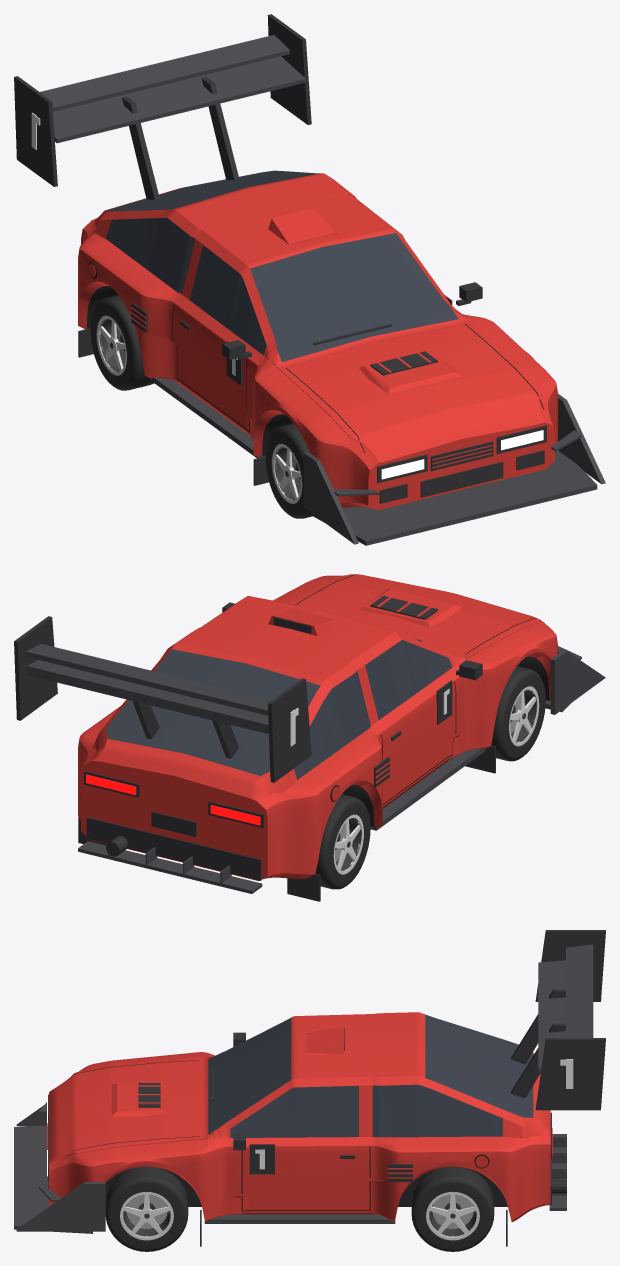
File: hill-climb-special.glb
3 renders of one model, top to bottom at view 1: azimuth 30°, elevation 25°; view 2: azimuth 150°, elevation 25°; view 3: azimuth 270°, elevation 25°, orthographic. The views are drawn at different scales.
Parts seen in each view (by area): view 1: Body, Wheel_RR, Wheel_FR; view 2: Body, Wheel_RR, Wheel_FR; view 3: Body, Wheel_FL, Wheel_RL.
Boxes of the visible parts, left/top/right/bottom form: Body: left=14, top=14, right=605, bottom=545; Wheel_RR: left=90, top=295, right=153, bottom=390; Wheel_FR: left=265, top=423, right=312, bottom=518; Body: left=14, top=574, right=605, bottom=901; Wheel_RR: left=315, top=794, right=370, bottom=889; Wheel_FR: left=491, top=666, right=545, bottom=761; Body: left=14, top=930, right=605, bottom=1246; Wheel_FL: left=105, top=1166, right=188, bottom=1251; Wheel_RL: left=411, top=1166, right=494, bottom=1251.
Bounding box in the file's own units: 2.09 × 1.92 × 4.72.
